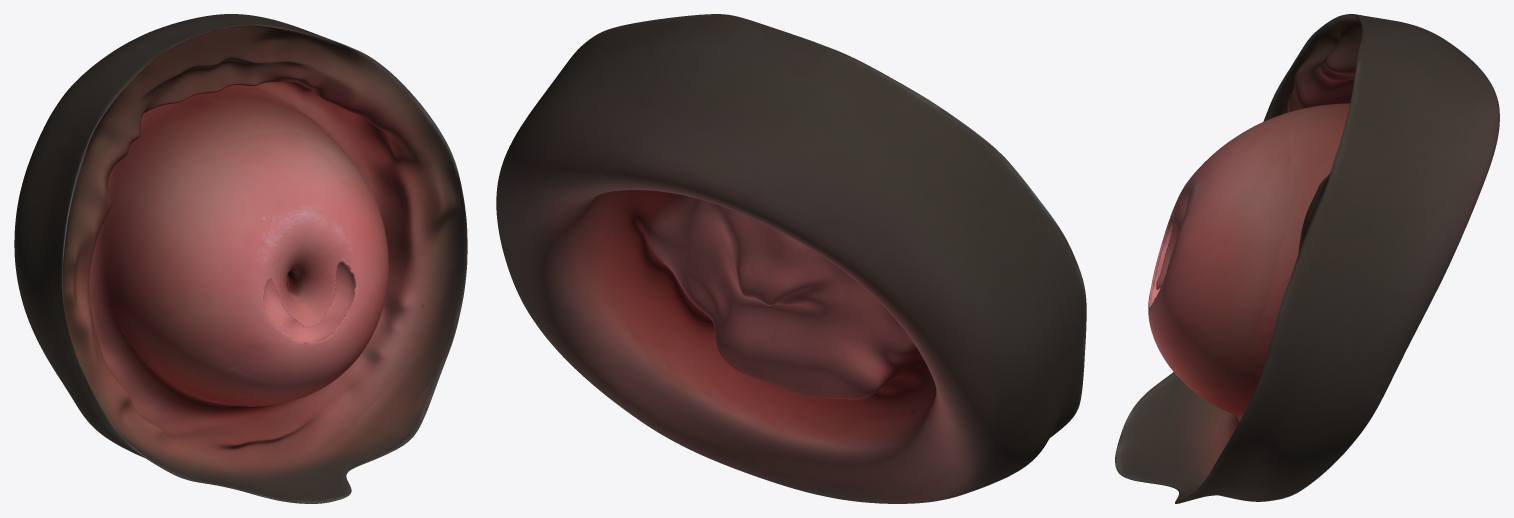
3 renders of one model, left to right at view 1: azimuth 30°, elevation 25°; view 2: azimuth 150°, elevation 25°; view 3: azimuth 270°, elevation 25°, orthographic. The views are drawn at different scales.
Visible parts, largest first — view 1: node_0; view 2: node_0; view 3: node_0.
Part boxes in pixels (left/top/right/bottom): node_0: left=14, top=14, right=467, bottom=503; node_0: left=496, top=14, right=1086, bottom=503; node_0: left=1115, top=14, right=1499, bottom=503.
Size of the model in its own units: 1.02 by 0.9513 by 0.7679.
Materials: 1 (1 with a texture image).
